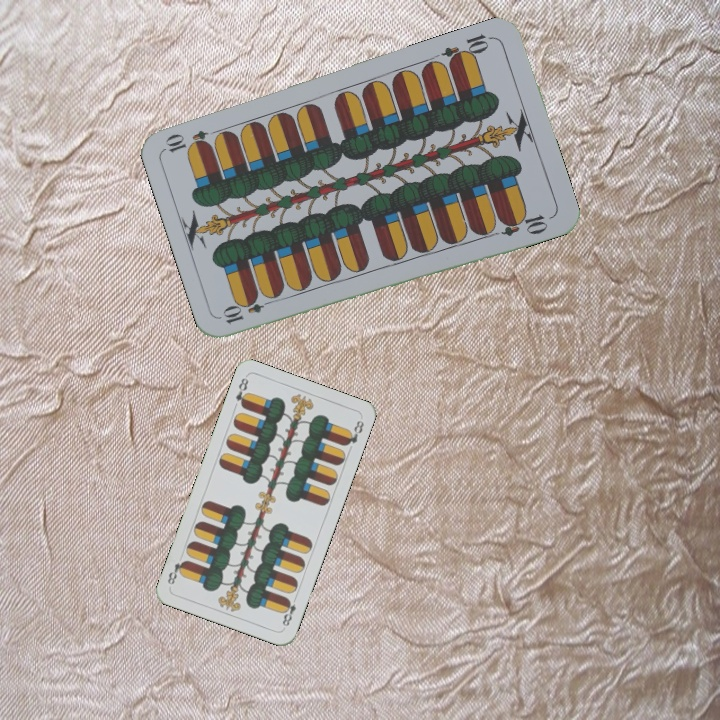E10: (438, 30, 496, 68), (219, 293, 277, 327)
E8: (278, 592, 300, 629), (231, 374, 251, 411)
